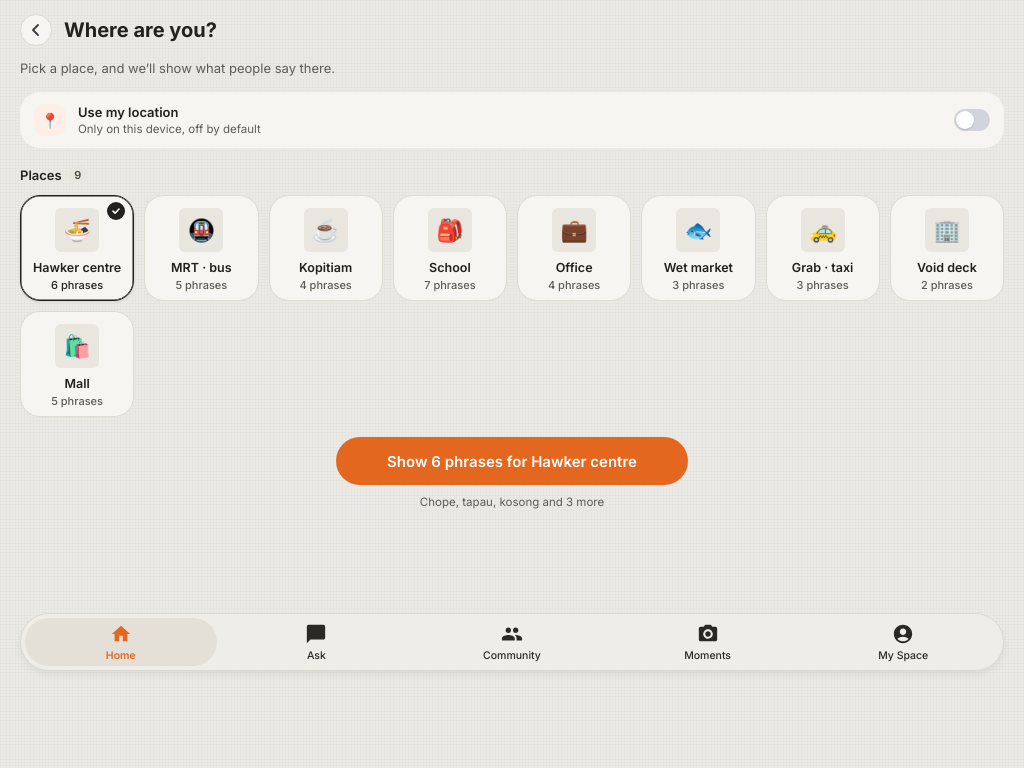
it: location stays off with a message when the browser has no geolocation
The width and height of the screenshot is (1024, 768).
Click the switch named "Use my location": (972, 120) 954,109 -> 990,131
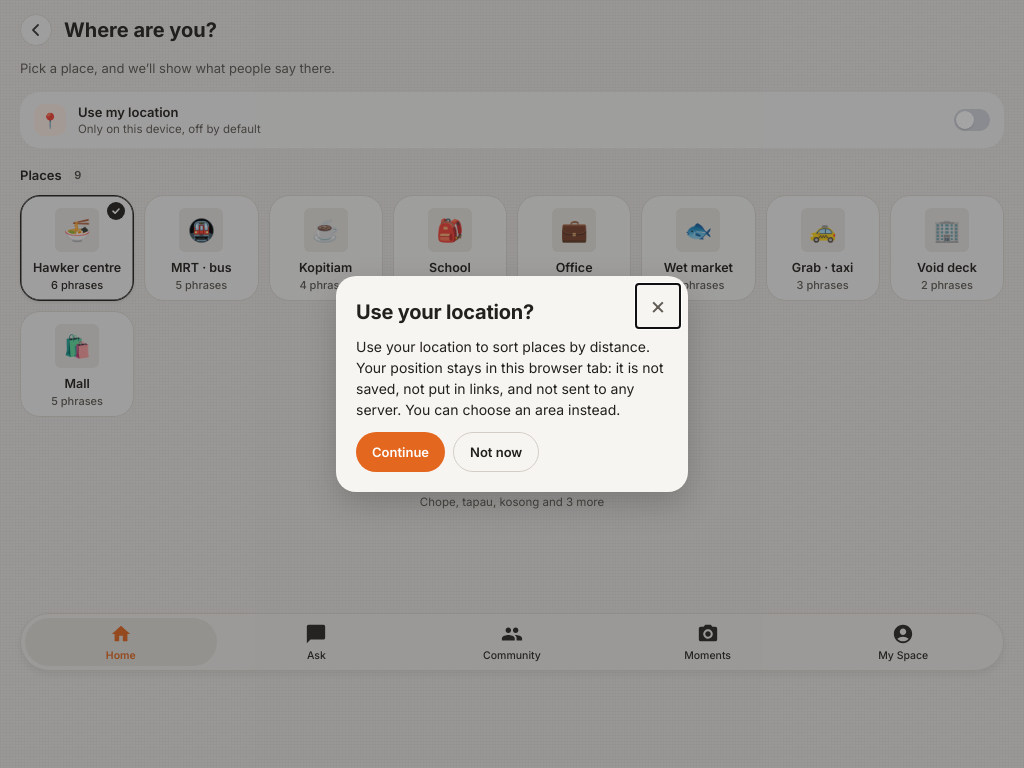
Click the button "Continue": (400, 452) 356,432 -> 445,472
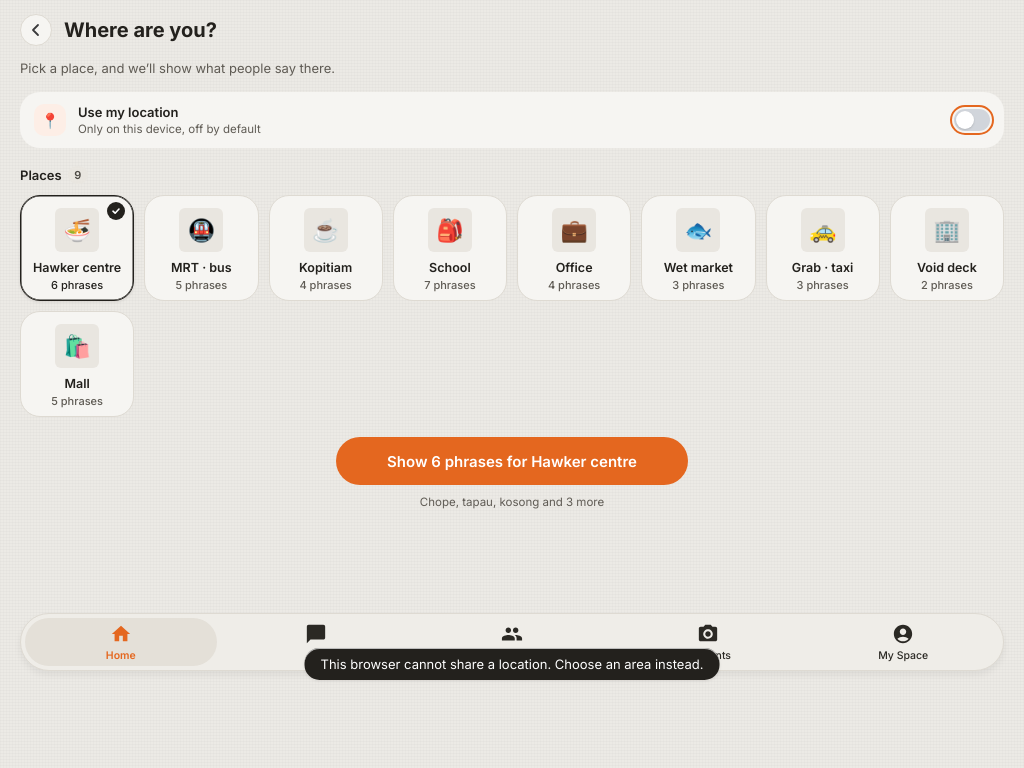
Result: the message shows "cannot share a location" at 320,656 -> 704,672
